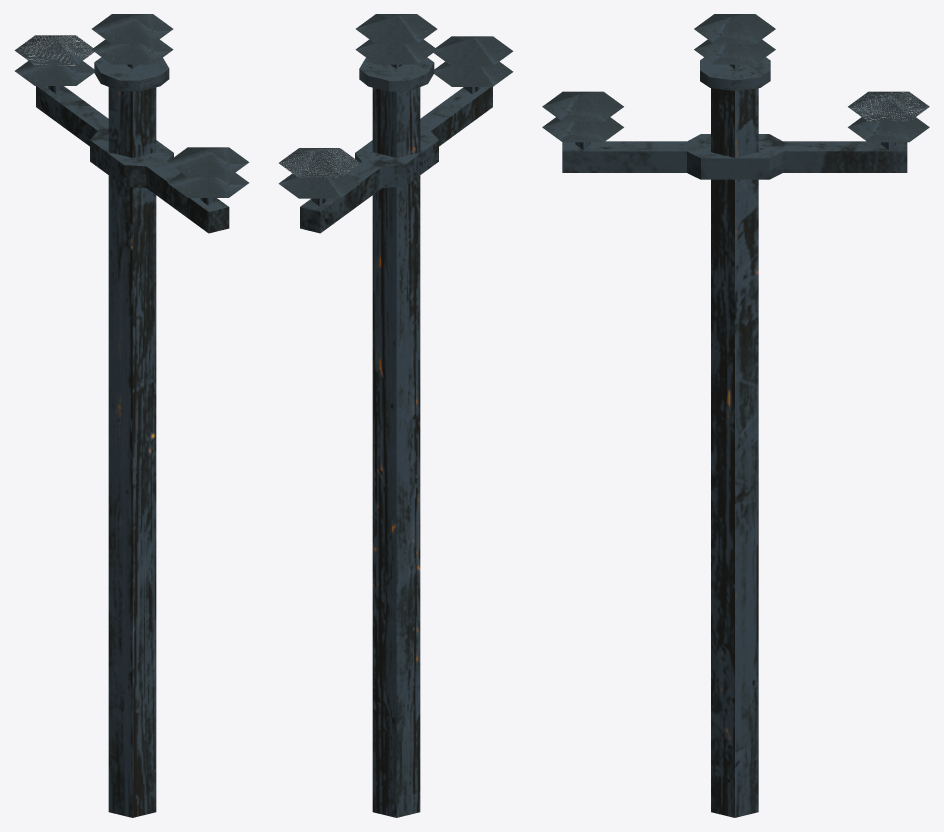
The model's file is powerline 1.fbx.
The picture shows the model from 3 angles, left to right: view 1: azimuth 30°, elevation 25°; view 2: azimuth 150°, elevation 25°; view 3: azimuth 270°, elevation 25°; orthographic projection.
Parts seen in each view (by area): view 1: powerline; view 2: powerline; view 3: powerline.
Part boxes in pixels (bbox=[...]): powerline: bbox=[14, 14, 249, 817]; powerline: bbox=[278, 14, 513, 817]; powerline: bbox=[542, 14, 929, 817].
Bounding box in the file's own units: 0.00686 × 0.0829 × 0.0368.
